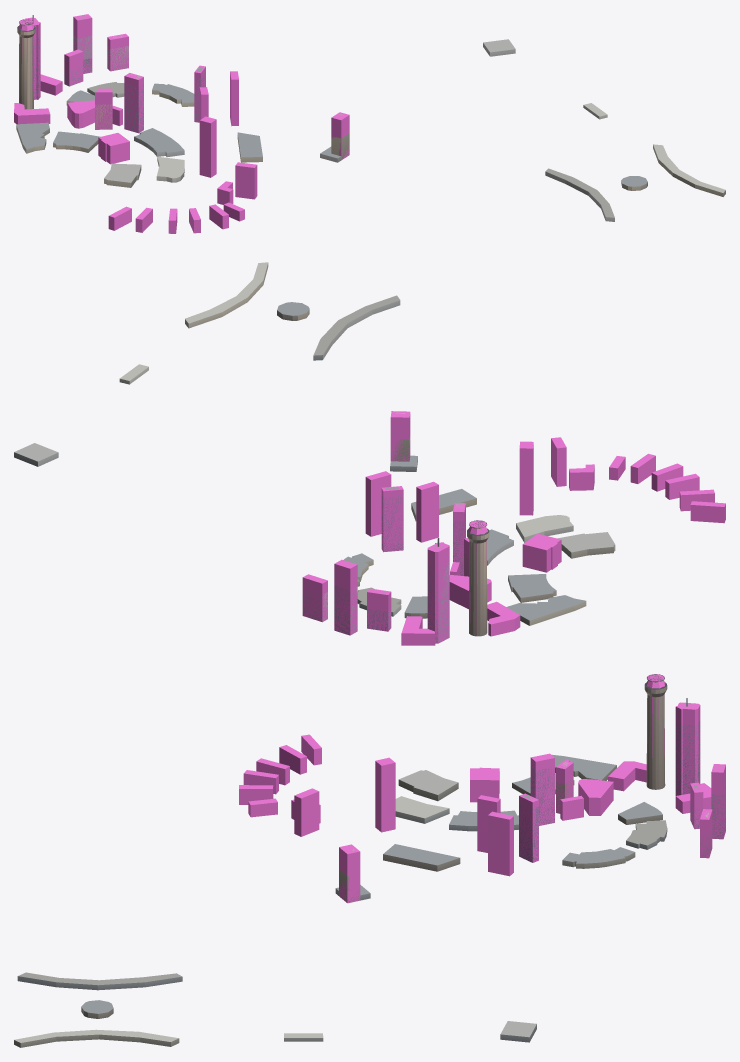
File: bld_16_9.fbx
The picture shows the model from 3 angles, top to bottom: view 1: azimuth 30°, elevation 25°; view 2: azimuth 150°, elevation 25°; view 3: azimuth 270°, elevation 25°; orthographic projection. The views are drawn at different scales.
Parts seen in each view (by area): view 1: bld_16_9_COL, bld_16_9_LOD0; view 2: bld_16_9_COL, bld_16_9_LOD0; view 3: bld_16_9_COL, bld_16_9_LOD0.
Boxes of the visible parts, bbox=[...] form: bld_16_9_COL: bbox=[14, 14, 349, 233]; bld_16_9_LOD0: bbox=[16, 15, 725, 221]; bld_16_9_COL: bbox=[302, 411, 725, 645]; bld_16_9_LOD0: bbox=[14, 262, 615, 643]; bld_16_9_COL: bbox=[239, 674, 725, 903]; bld_16_9_LOD0: bbox=[14, 674, 725, 1047].
Size of what is drawn, in the model's own units: 1578 by 268 by 1597.
